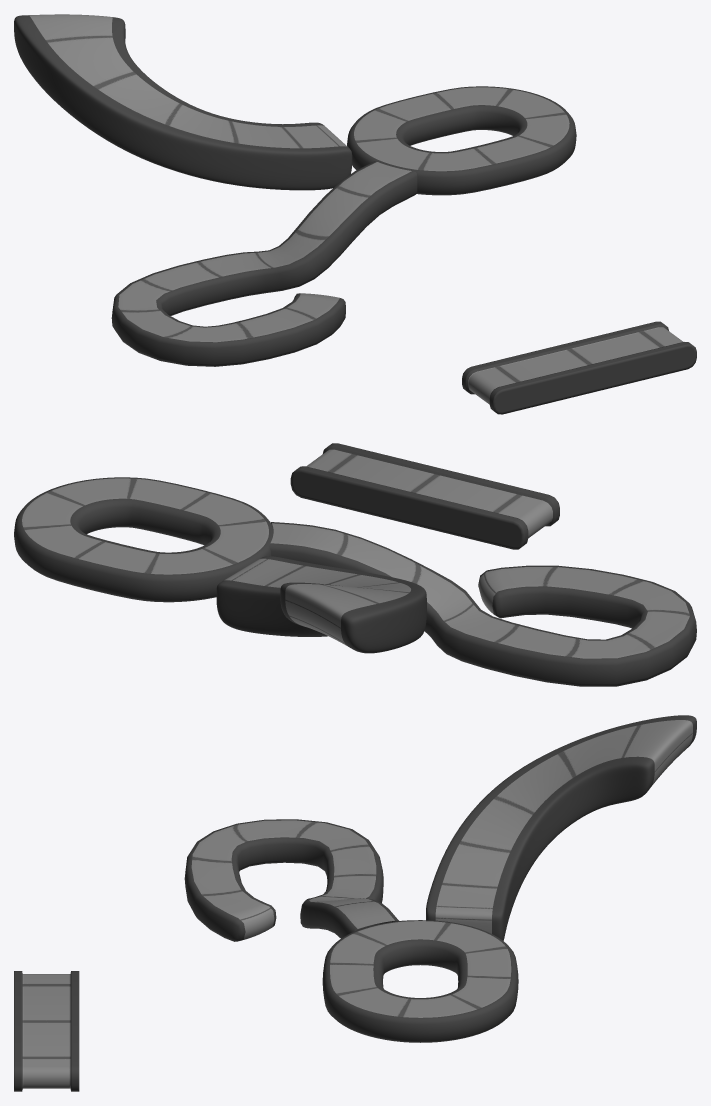
Rendered from Map_Rail_All.fbx.
3 renders of one model, top to bottom at view 1: azimuth 30°, elevation 25°; view 2: azimuth 150°, elevation 25°; view 3: azimuth 270°, elevation 25°, orthographic. The views are drawn at different scales.
Parts seen in each view (by area): view 1: Map_Rail_1, Map_Rail_3, Map_Rail_2, Map_Rail_4; view 2: Map_Rail_3, Map_Rail_2, Map_Rail_4, Map_Rail_1; view 3: Map_Rail_1, Map_Rail_2, Map_Rail_3, Map_Rail_4.
Part boxes in pixels (<box>): Map_Rail_1: <box>14,14,352,190</box>; Map_Rail_3: <box>111,161,417,366</box>; Map_Rail_2: <box>347,86,576,195</box>; Map_Rail_4: <box>462,321,696,414</box>; Map_Rail_3: <box>269,522,696,686</box>; Map_Rail_2: <box>14,477,273,602</box>; Map_Rail_4: <box>290,443,559,549</box>; Map_Rail_1: <box>216,556,426,653</box>; Map_Rail_1: <box>426,715,696,940</box>; Map_Rail_2: <box>322,920,518,1042</box>; Map_Rail_3: <box>184,819,398,941</box>; Map_Rail_4: <box>14,971,79,1091</box>.
Bounding box in the file's own units: 54.51 × 20.33 × 62.05.
